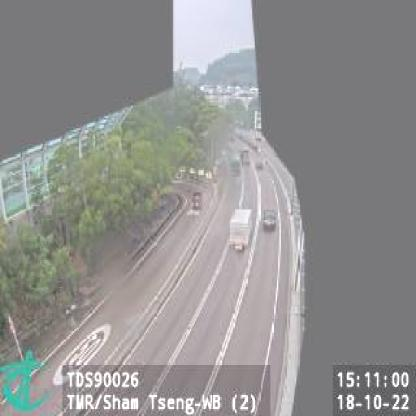Car: (263, 206, 278, 231)
Truck: (230, 207, 254, 254)
